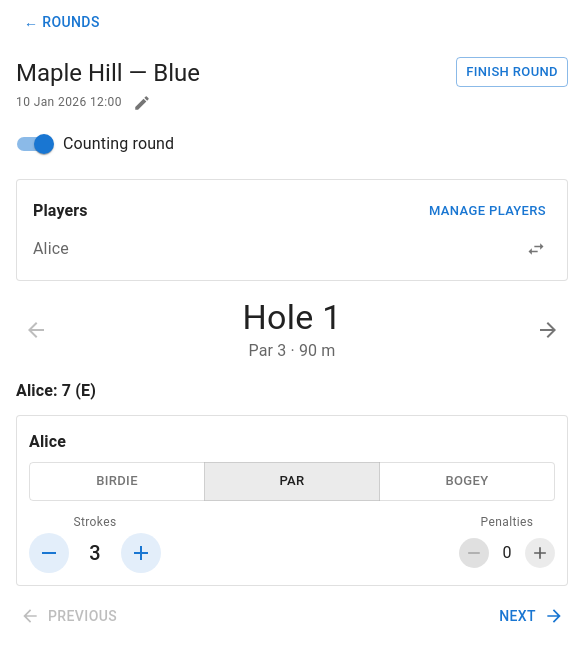
RoundPage › shows bottom Previous/Next buttons on hole and checkpoint steps, but not on the final summary
Expected: the heading "Hole 1" is shown, x1=242 y1=297 x2=342 y2=339
Expected: the button "Previous" is disabled, x1=16 y1=598 x2=125 y2=634
Click the button "Next" at (530,616), box x1=491 y1=598 x2=568 y2=634
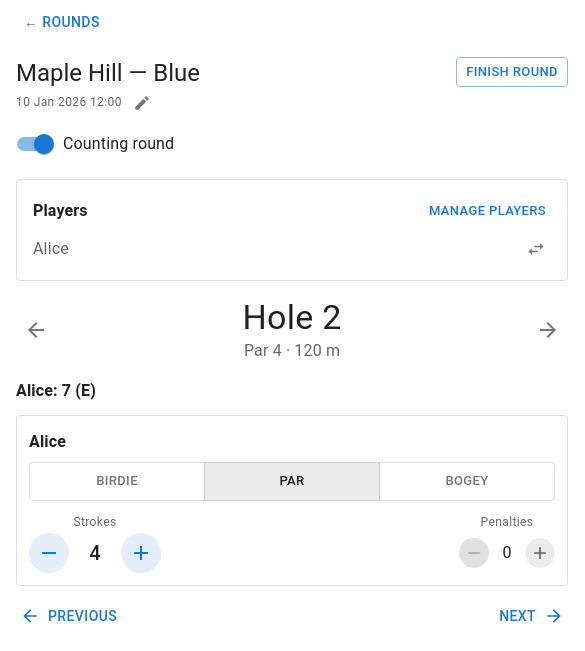
Expected: the heading "Hole 2" is shown, x1=242 y1=297 x2=342 y2=339
Click the button named "next hole" at (548,330), box x1=528 y1=310 x2=568 y2=350
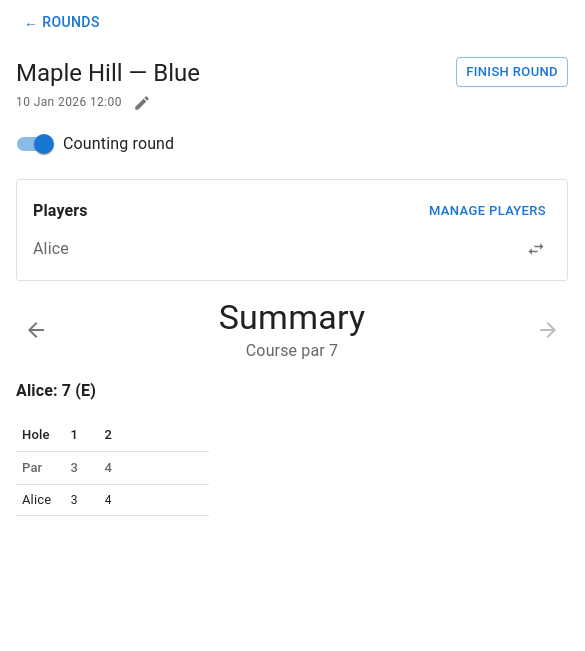
Expected: the heading "Summary" is shown, x1=219 y1=297 x2=365 y2=339
Expected: the button "Previous" is gone
Expected: the button "Next" is gone
